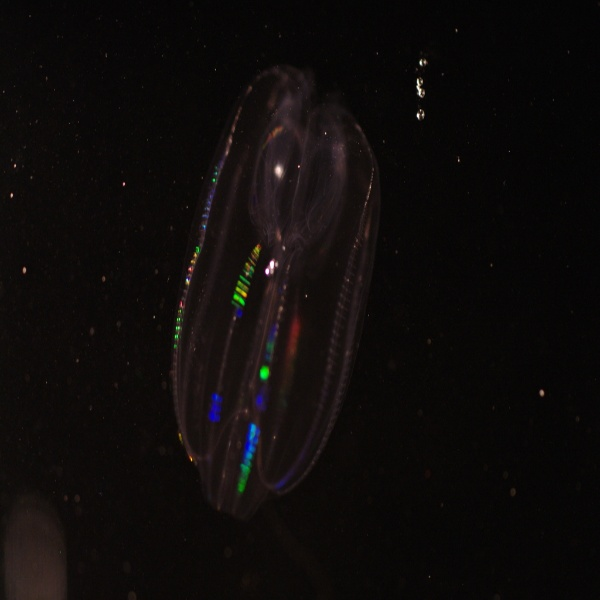Jellyfish: (185, 45, 417, 537)
